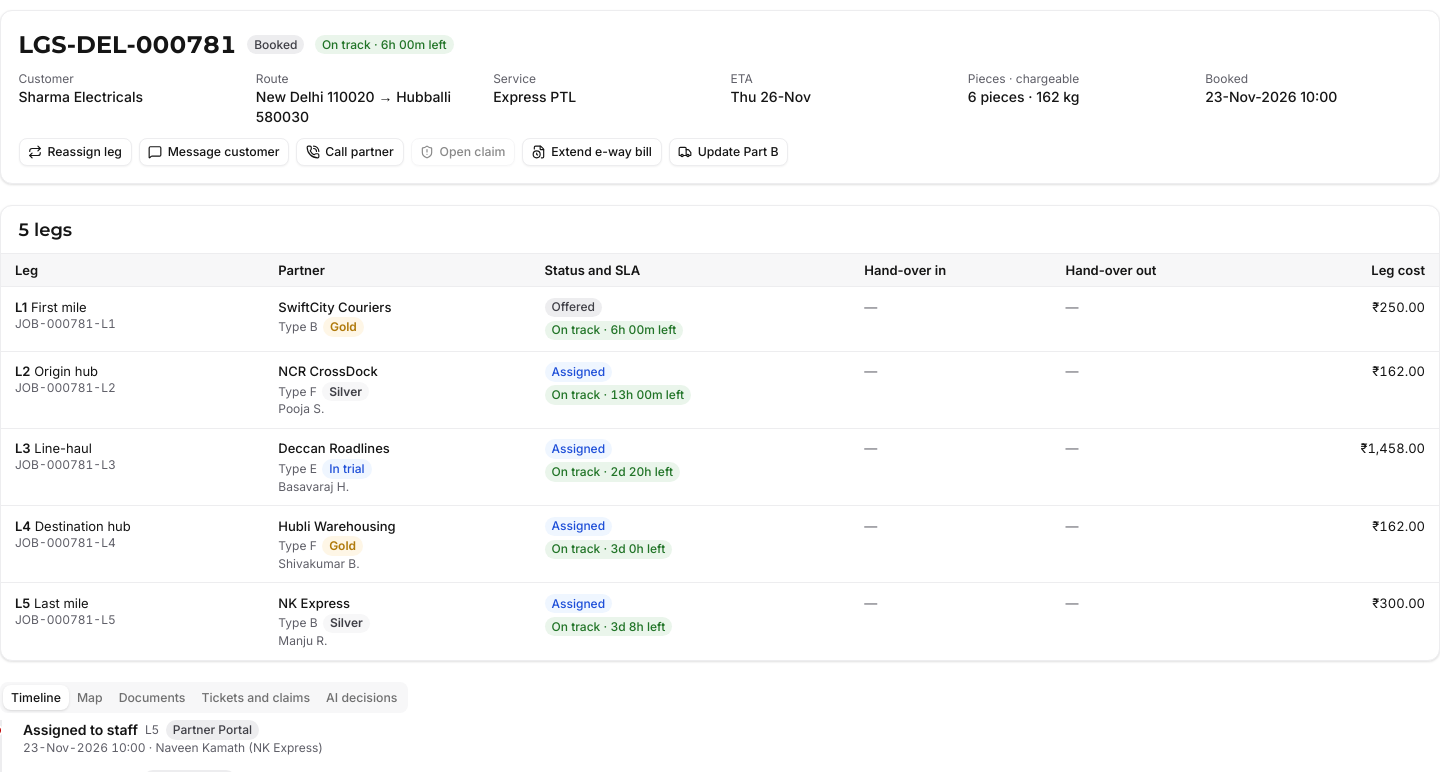
it: ERP-03 Shipment 360 › AI decisions explain the first-mile choice
This screenshot has width=1440, height=772.
Press the mouse on the tab "AI decisions": (362, 697) x1=318 y1=685 x2=405 y2=710
(page scrolled)
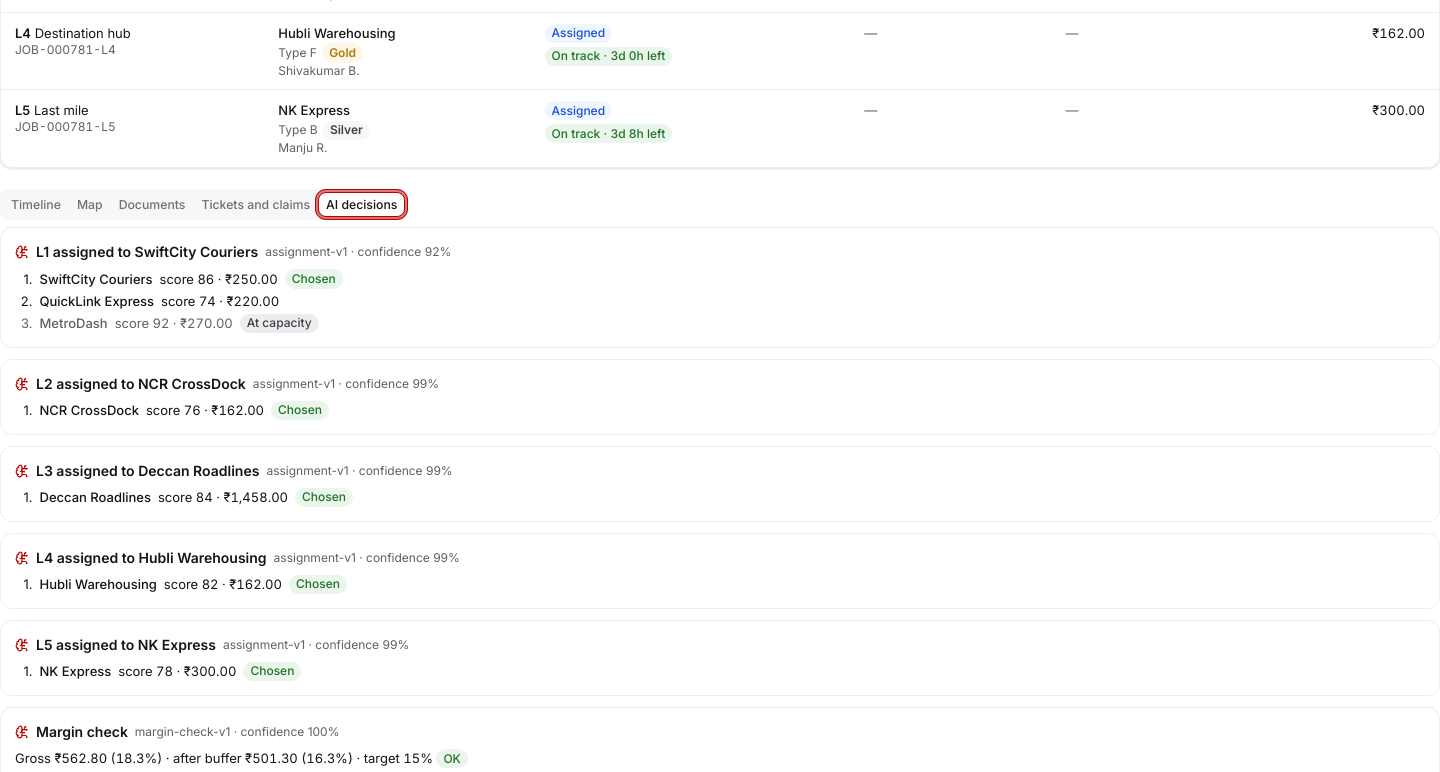
Check: the panel shows "L1 assigned to SwiftCity Couriers", box x1=36 y1=243 x2=258 y2=260
Check: the panel shows "MetroDash", box x1=40 y1=315 x2=108 y2=331
Check: the panel shows "At capacity", box x1=247 y1=315 x2=312 y2=330
